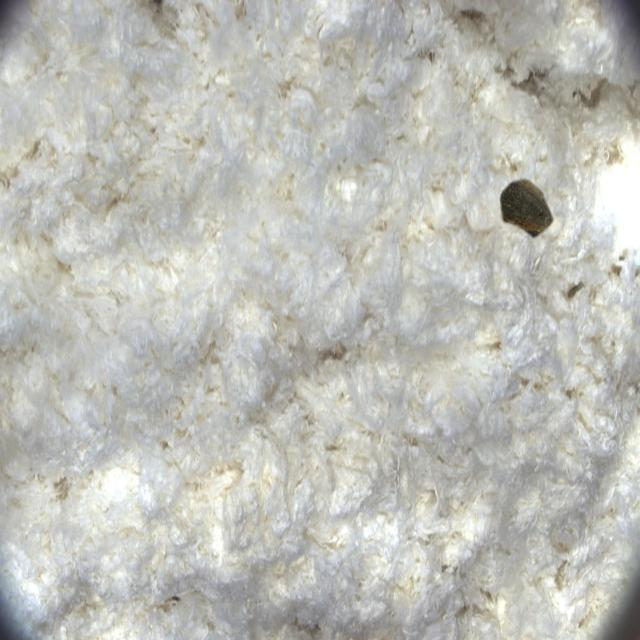dust: (485, 147, 582, 276)
